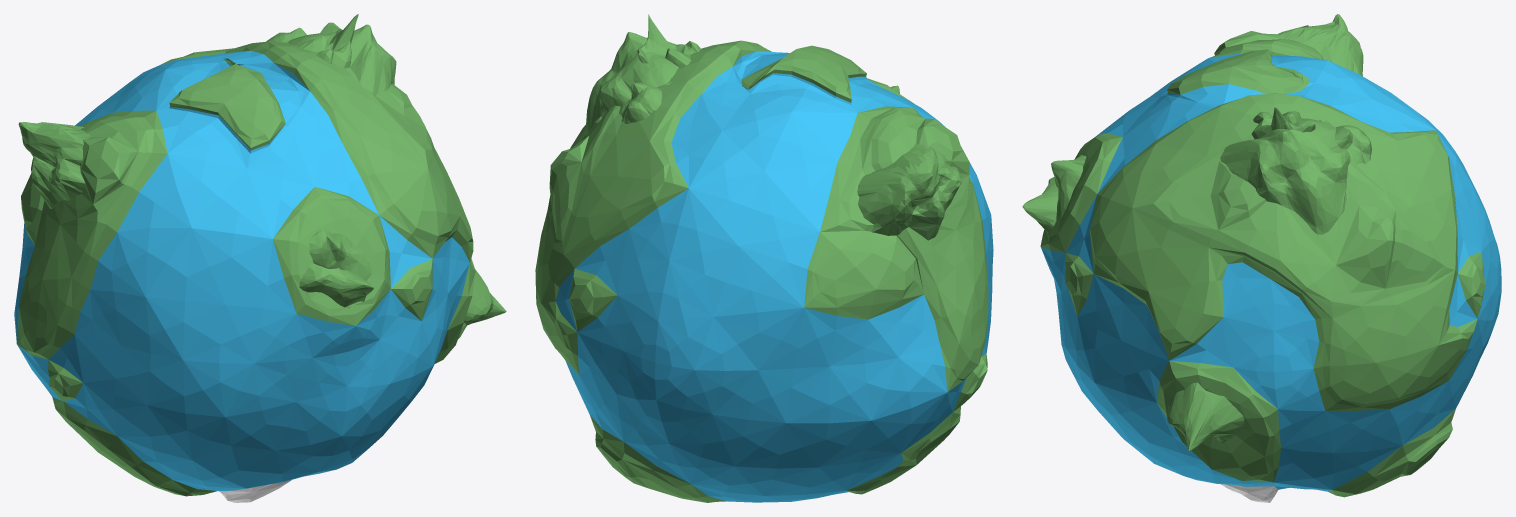
File: EarthMountains.fbx
3 renders of one model, left to right at view 1: azimuth 30°, elevation 25°; view 2: azimuth 150°, elevation 25°; view 3: azimuth 270°, elevation 25°, orthographic. The views are drawn at different scales.
Visible parts, largest first — view 1: EarthMountains; view 2: EarthMountains; view 3: EarthMountains.
Boxes of the visible parts, x1,y1,x2,y2 form: EarthMountains: (14,14,506,502); EarthMountains: (535,14,993,502); EarthMountains: (1022,14,1501,502).
Size of the model in its own units: 22093 by 21818 by 21384.
